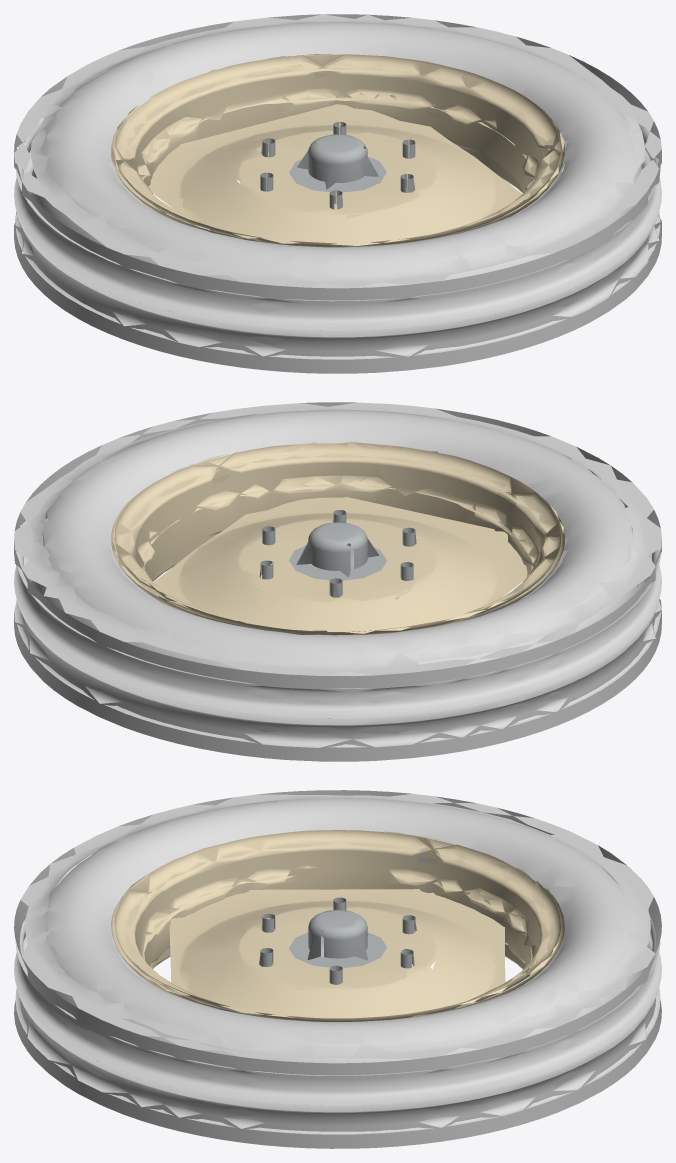
Rendered from front_left_wheel_visual.obj.
The picture shows the model from 3 angles, top to bottom: view 1: azimuth 30°, elevation 25°; view 2: azimuth 150°, elevation 25°; view 3: azimuth 270°, elevation 25°; orthographic projection.
Visible parts, largest first — view 1: front_left_wheel_visual; view 2: front_left_wheel_visual; view 3: front_left_wheel_visual.
Part boxes in pixels (<box>): front_left_wheel_visual: <box>14,14,661,373</box>; front_left_wheel_visual: <box>14,402,661,761</box>; front_left_wheel_visual: <box>14,790,661,1148</box>.
Size of the model in its own units: 0.2681 by 0.0504 by 0.2681.
